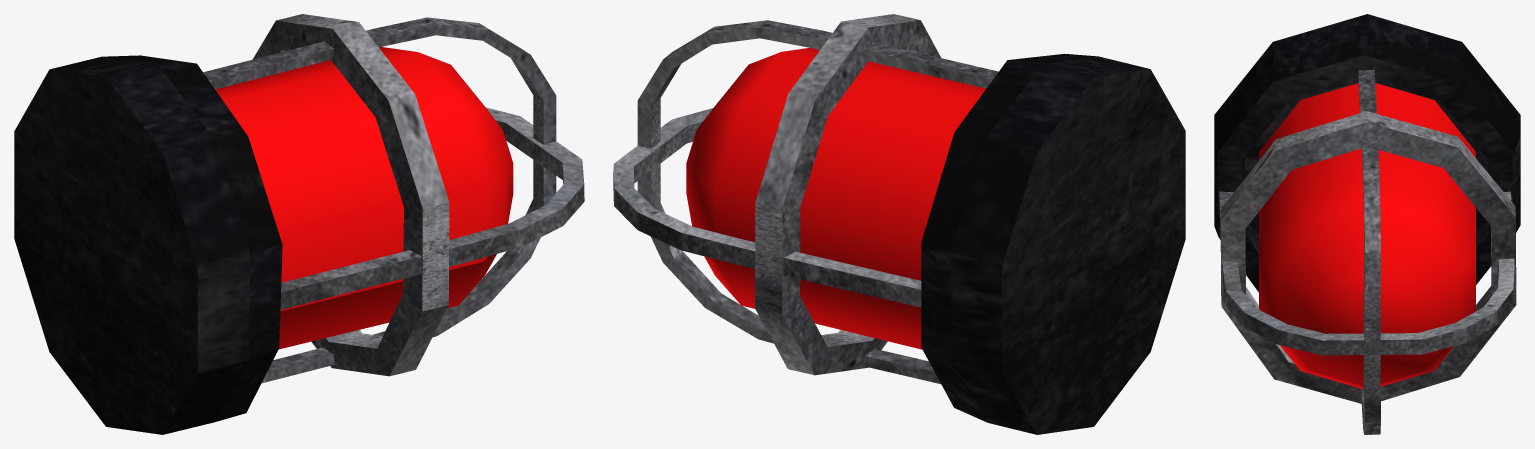
The model's file is Vent Light Model.fbx.
3 views of the same model, side by side, from view 1: azimuth 30°, elevation 25°; view 2: azimuth 150°, elevation 25°; view 3: azimuth 270°, elevation 25° (orthographic). The views are drawn at different scales.
Visible parts, largest first — view 1: Lamp_Light; view 2: Lamp_Light; view 3: Lamp_Light.
Part boxes in pixels (bbox=[...]): Lamp_Light: bbox=[14, 14, 584, 434]; Lamp_Light: bbox=[613, 14, 1185, 434]; Lamp_Light: bbox=[1214, 14, 1520, 434].
Size of the model in its own units: 3.38 by 2.51 by 2.39.
Materials: 1 (1 with a texture image).
